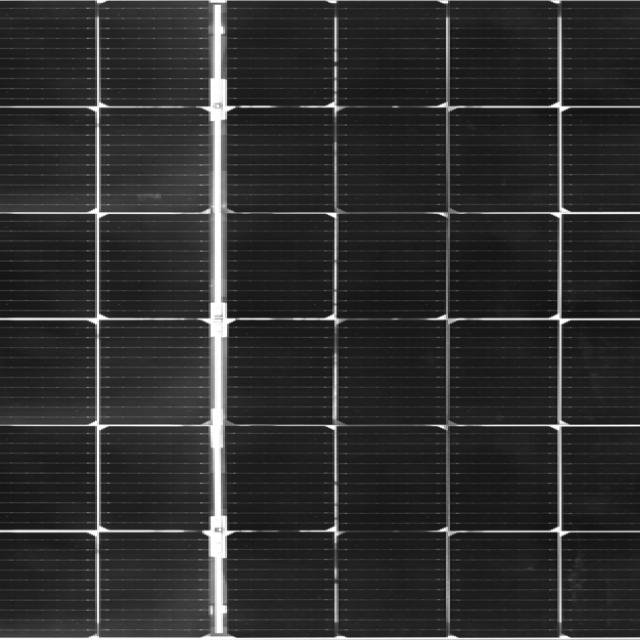CELL SHORT: (331, 311, 452, 334), (341, 96, 452, 121), (340, 522, 453, 544), (334, 413, 446, 435), (345, 202, 456, 222)
